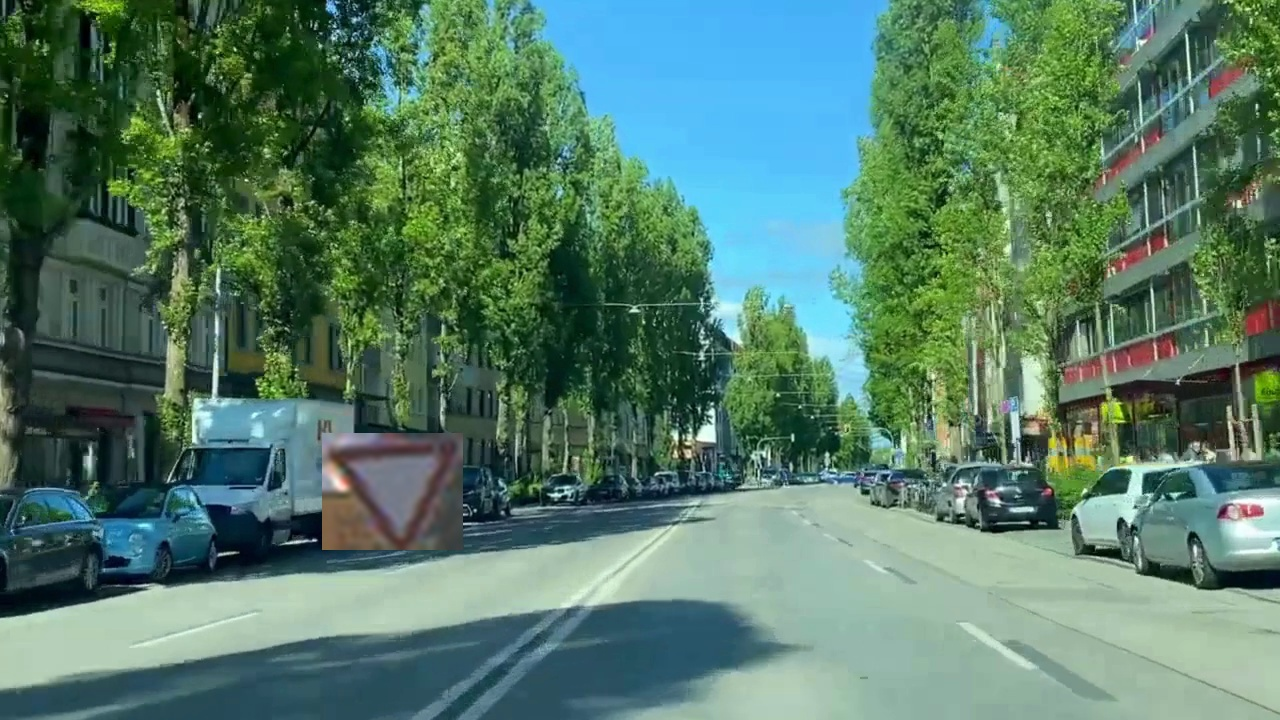Yield: (322, 433, 463, 550)
